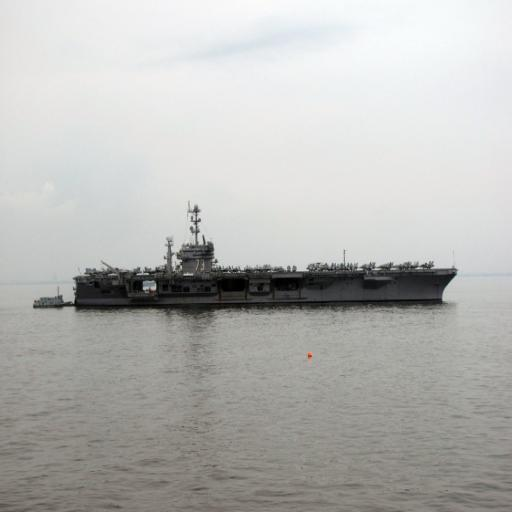Portanaves: (71, 197, 460, 312)
